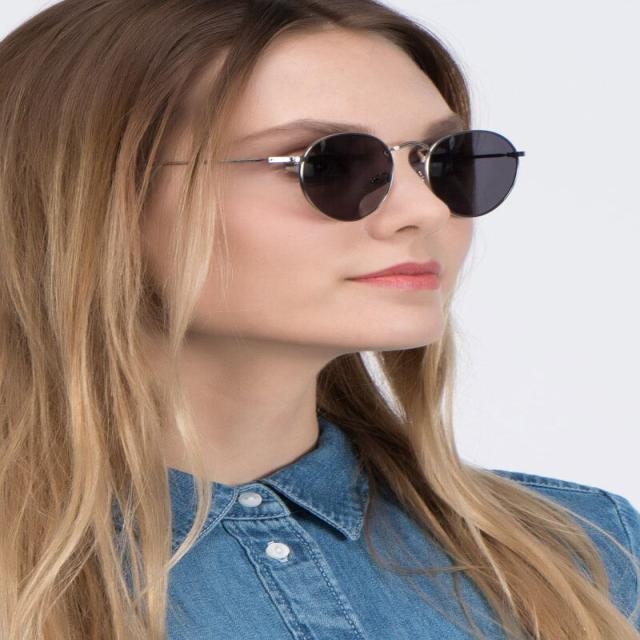2_gafas: (144, 128, 526, 222)
